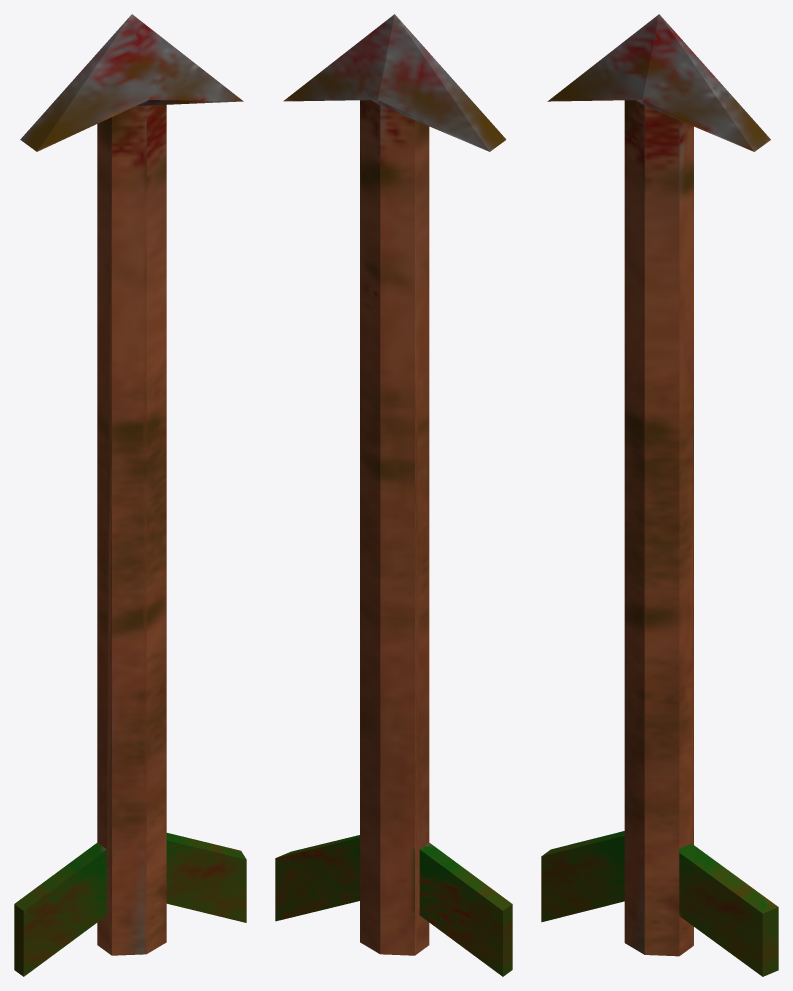
File: FLECHA.obj
The picture shows the model from 3 angles, left to right: view 1: azimuth 30°, elevation 25°; view 2: azimuth 150°, elevation 25°; view 3: azimuth 330°, elevation 25°; orthographic projection.
Visible parts, largest first — view 1: Circle; view 2: Circle; view 3: Circle.
Part boxes in pixels (box(x1,y1,x2,y2)): Circle: box(14, 14, 246, 976); Circle: box(275, 14, 512, 976); Circle: box(541, 14, 778, 976).
Bounding box in the file's own units: 0.3417 × 1.34 × 0.0875.
Materials: 1 (1 with a texture image).
